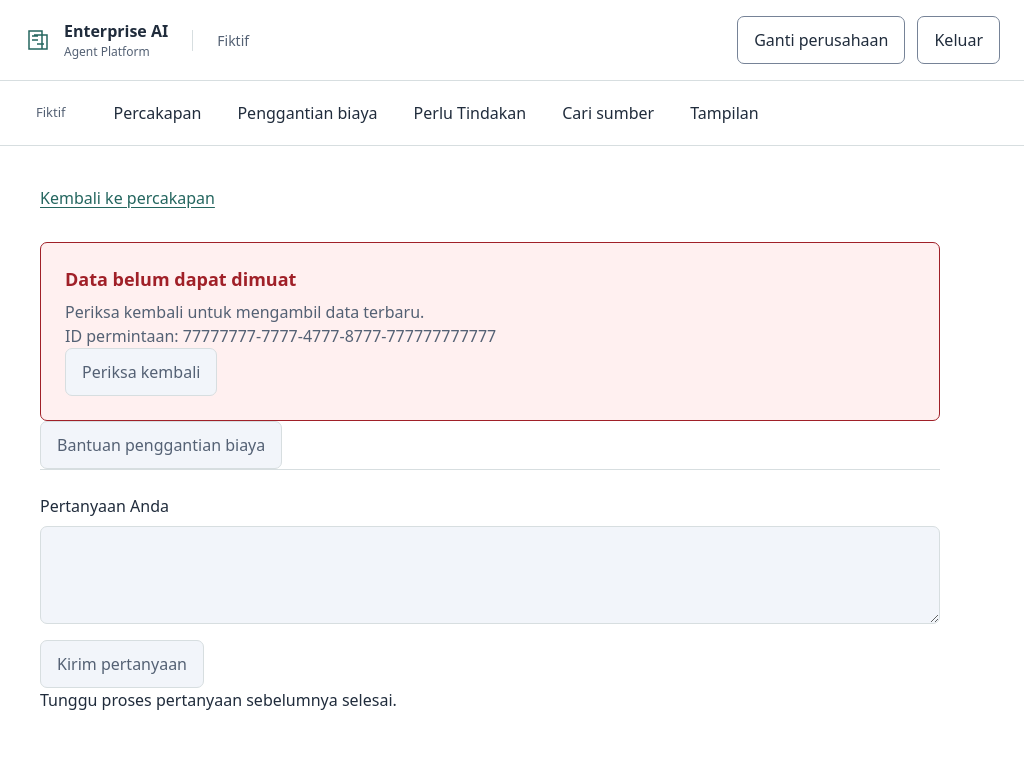
it: masks a failed periodic read and respects Retry-After before manual retry
Expected: the text "Jawaban tersimpan" is not shown
Click the button "Periksa kembali". click: (141,372)
box: x1=65 y1=348 x2=217 y2=396
Wait 5000 ms
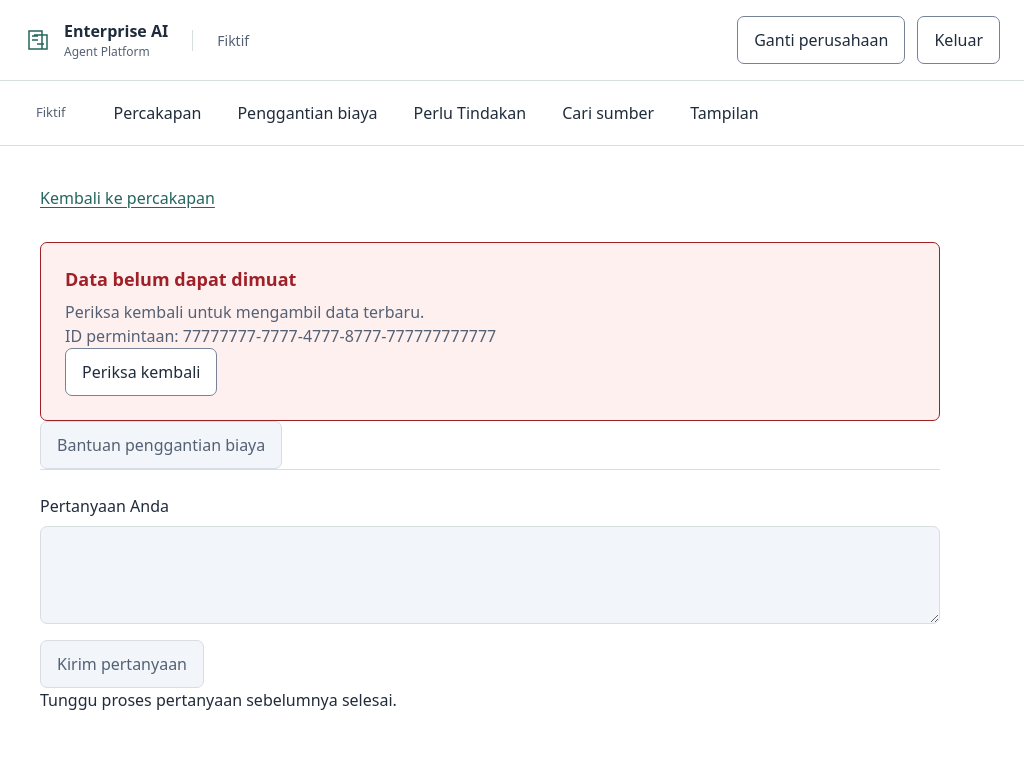
Now the button "Periksa kembali" is enabled
Click the button "Periksa kembali". click: (141,372)
box: x1=65 y1=348 x2=217 y2=396
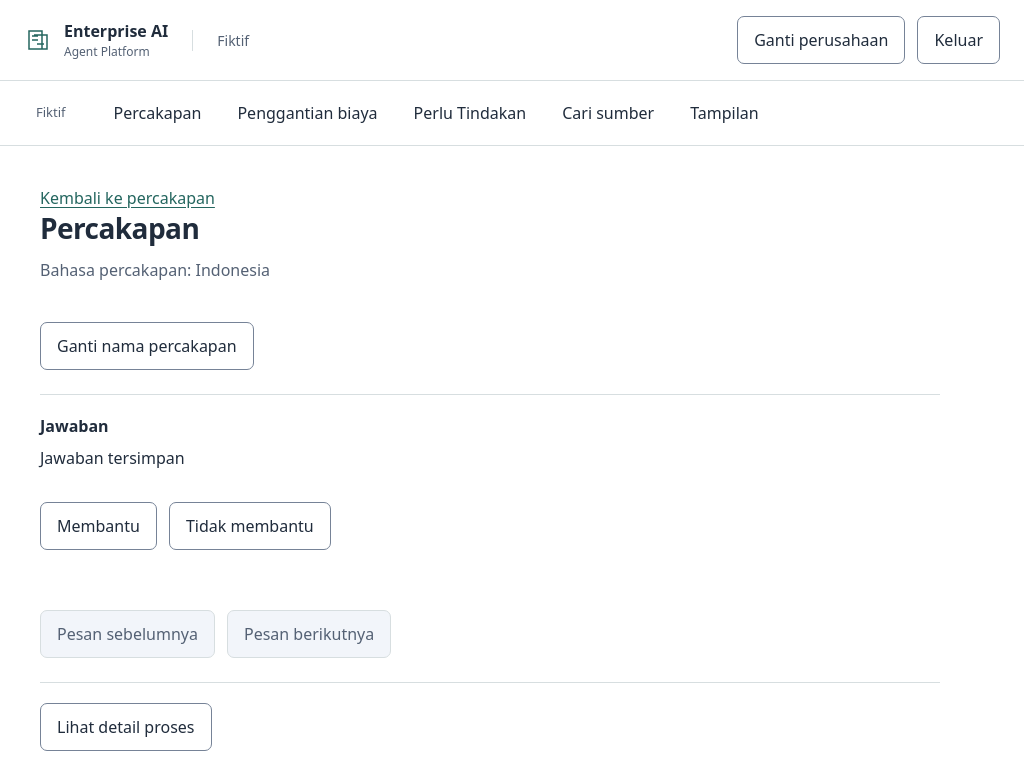
Now the text "Jawaban tersimpan" is shown, box x1=40 y1=447 x2=185 y2=469
